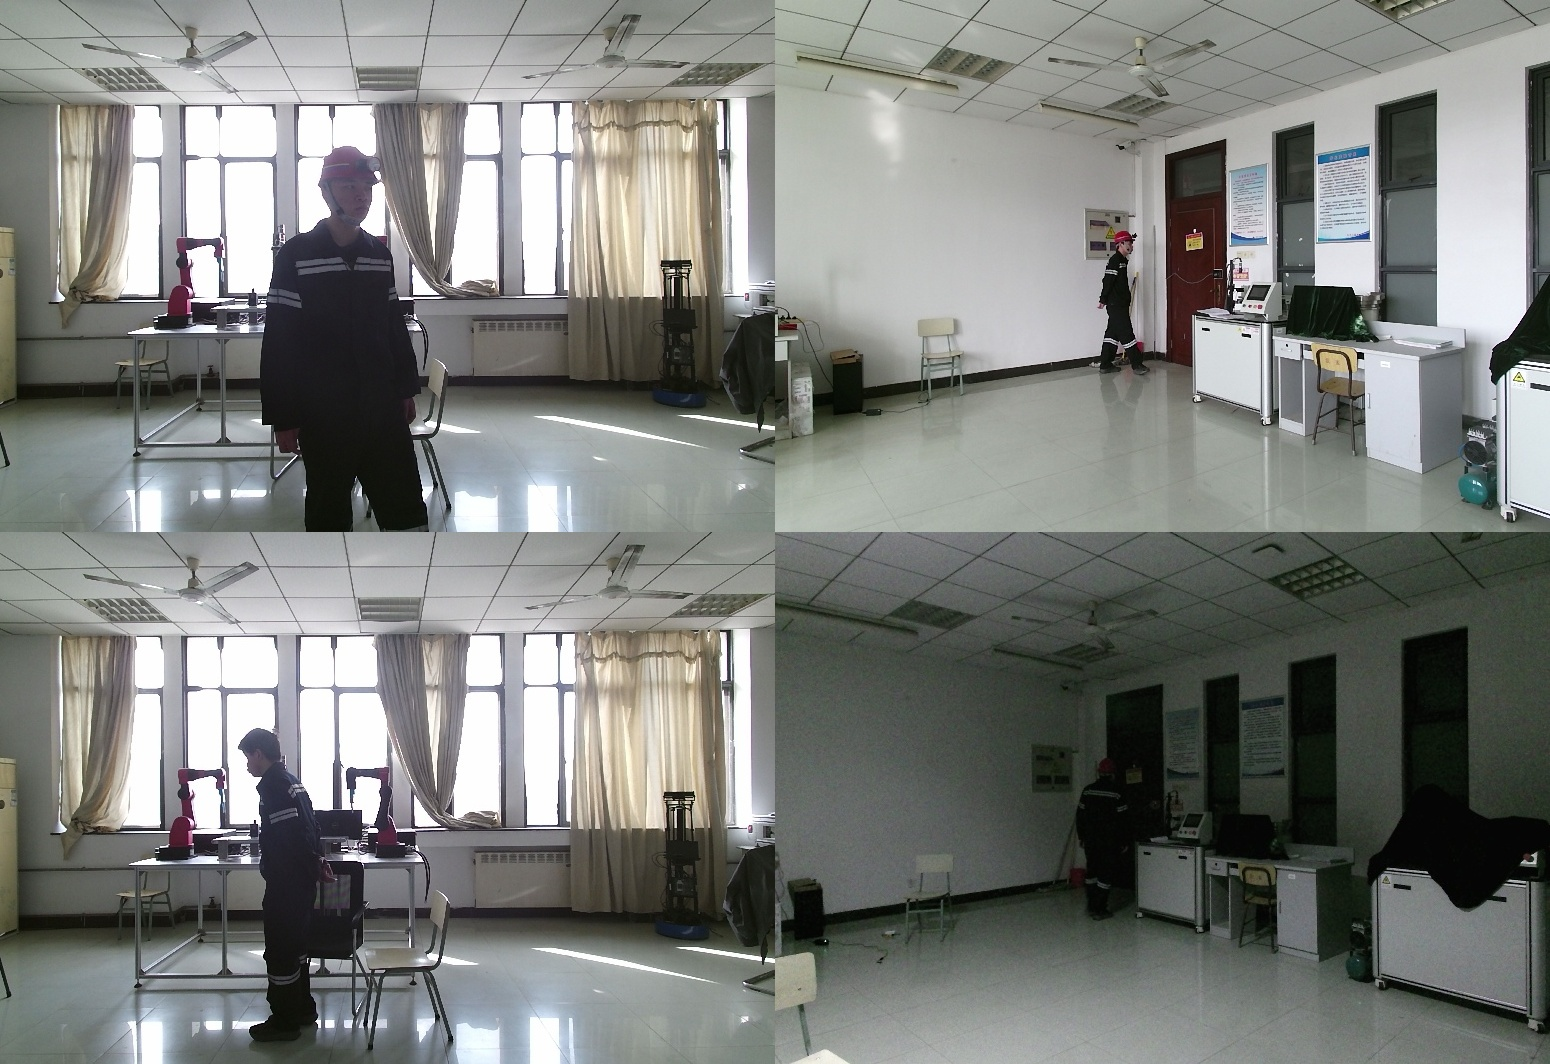person: (269, 148, 438, 532), (238, 728, 336, 1039), (1071, 760, 1134, 931), (1095, 232, 1148, 375)
